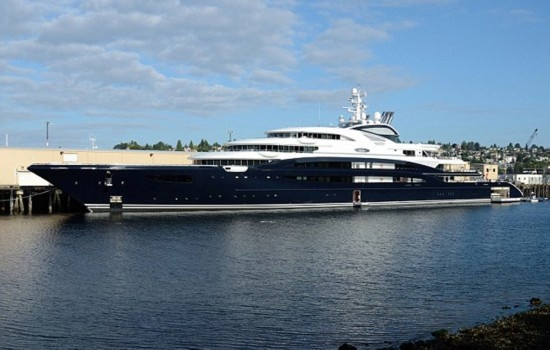yacht: (24, 84, 533, 217)
